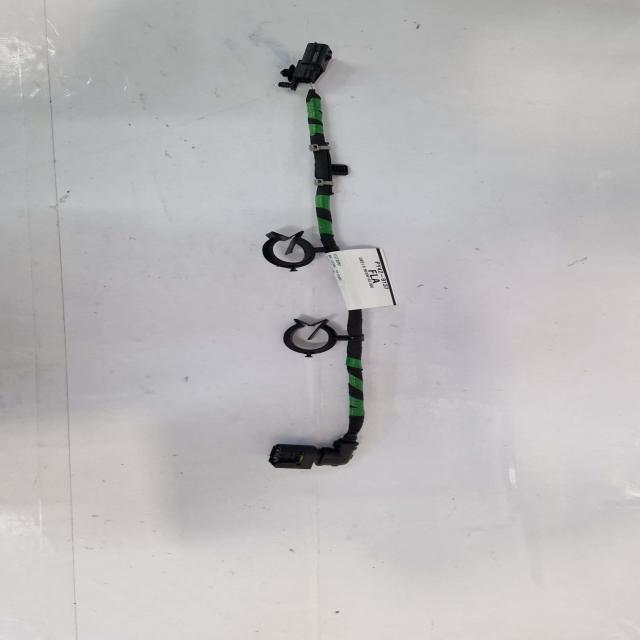AJ20_D6_Cable: (305, 86, 347, 254), (342, 313, 362, 441)
Clip: (281, 319, 363, 357), (260, 230, 324, 270)
Connector: (265, 438, 355, 469), (276, 40, 329, 88)
Info: (325, 246, 398, 309)
strap: (297, 139, 322, 146), (332, 148, 337, 155)
